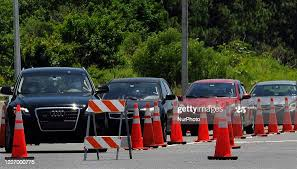car: (5, 67, 104, 152), (99, 79, 175, 136), (179, 80, 253, 132), (251, 80, 297, 123)
cone: (214, 107, 232, 158), (12, 104, 27, 157), (126, 103, 142, 152), (152, 101, 164, 144), (224, 102, 235, 146), (197, 104, 210, 139), (171, 102, 182, 141), (143, 102, 152, 147), (254, 99, 264, 136), (269, 98, 277, 133), (283, 98, 291, 132)
